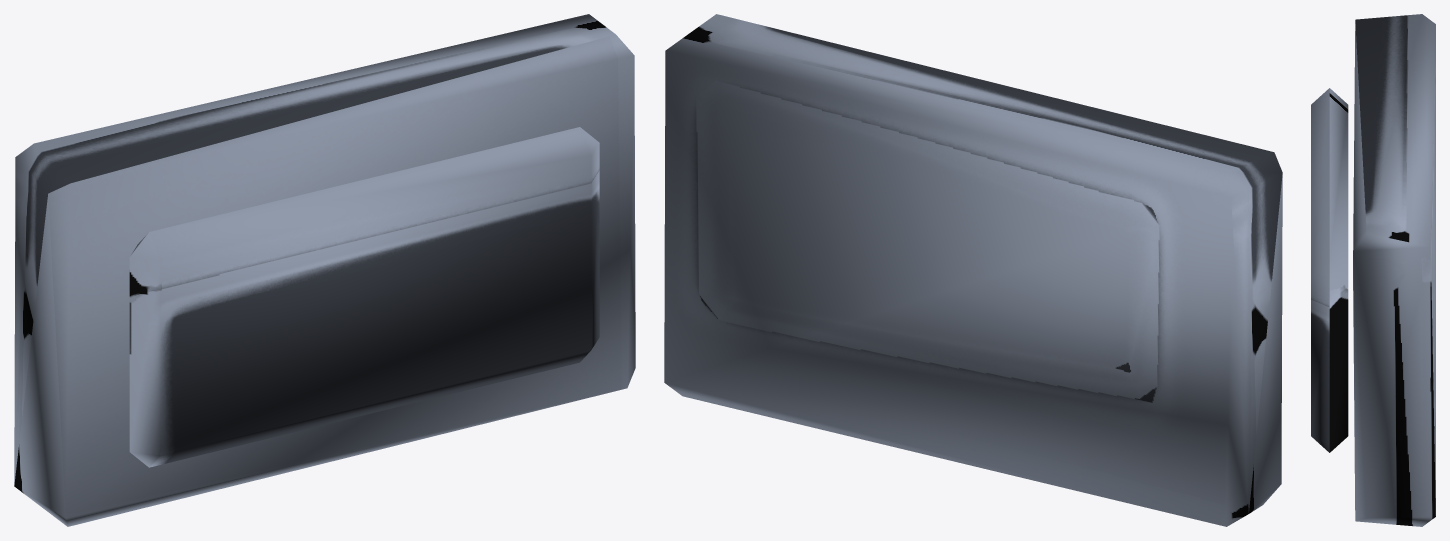
Rendered from Remache_Cinturon_Acero.fbx.
The picture shows the model from 3 angles, left to right: view 1: azimuth 30°, elevation 25°; view 2: azimuth 150°, elevation 25°; view 3: azimuth 270°, elevation 25°; orthographic projection. The views are drawn at different scales.
Visible parts, largest first — view 1: Remache_Cinturon_Acero; view 2: Remache_Cinturon_Acero; view 3: Remache_Cinturon_Acero.
Boxes of the visible parts, left/top/right/bottom form: Remache_Cinturon_Acero: left=14, top=14, right=635, bottom=526; Remache_Cinturon_Acero: left=664, top=14, right=1282, bottom=526; Remache_Cinturon_Acero: left=1311, top=14, right=1435, bottom=526.
Size of the model in its own units: 0.4286 by 0.25 by 0.0962.
